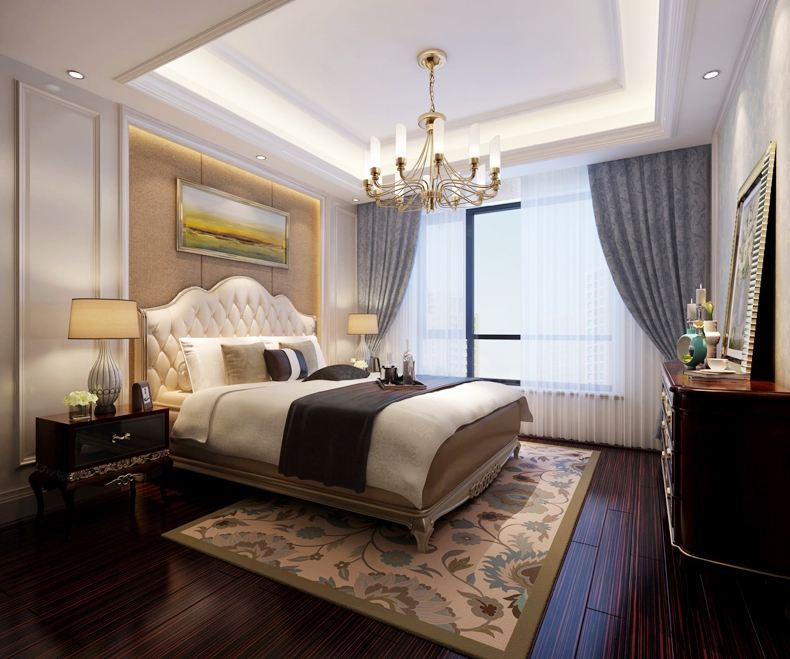床: (171, 371, 524, 529)
枕头: (178, 329, 332, 389)
灯: (357, 49, 512, 223), (62, 297, 144, 417), (343, 312, 384, 371), (701, 68, 728, 85), (61, 68, 85, 85), (250, 152, 271, 166)
